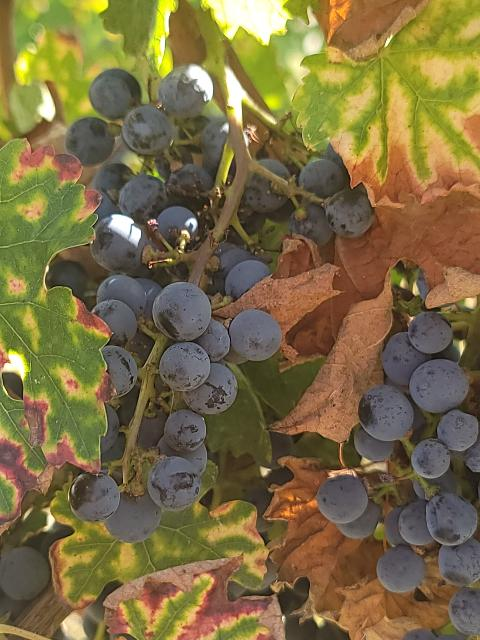grapes: (65, 65, 281, 541), (355, 311, 479, 594), (238, 149, 371, 245)
